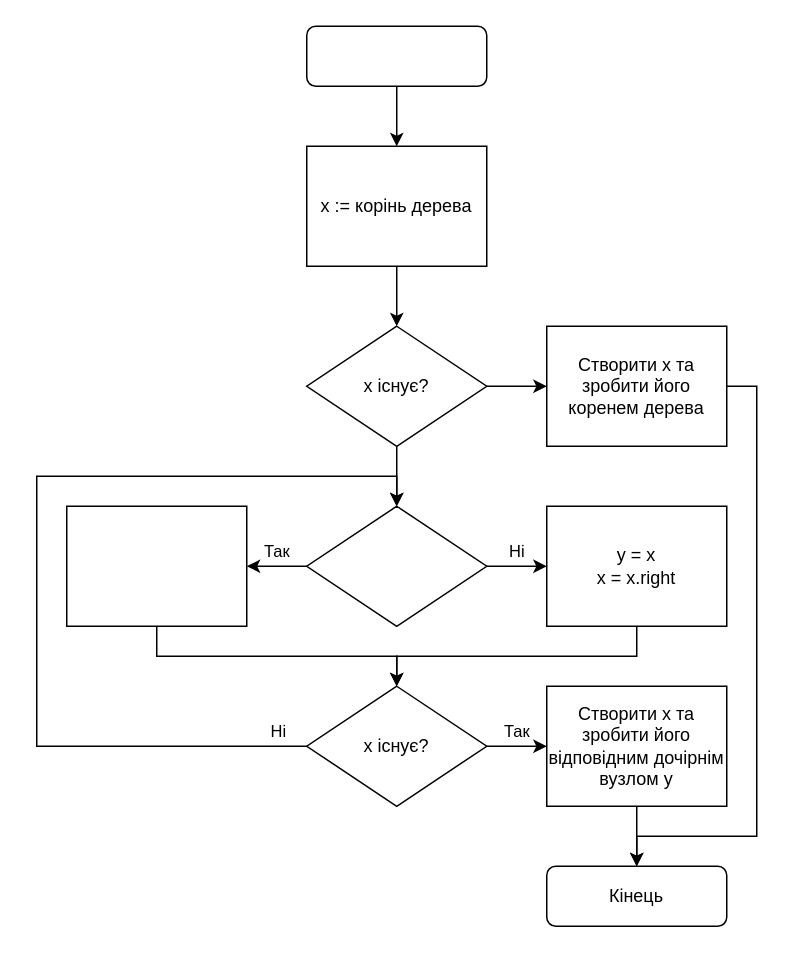
This 795x953 diagram has some shape labels left out. The shapes that lost their labels are listed below. From the top down, each one's box as (x1, y1, x2, y2) in pixels, then its label:
(305, 25, 487, 86): insert(key)
(65, 505, 247, 626): y = x x = x.left
(305, 505, 487, 626): key < x.key
